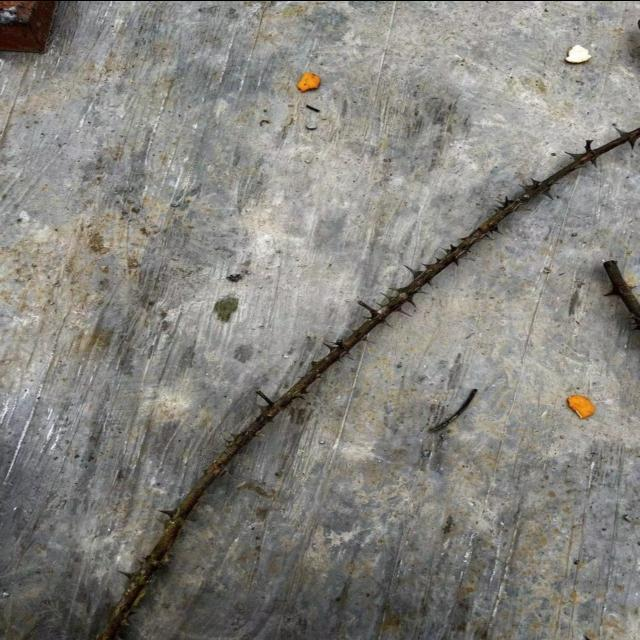branch: (93, 124, 640, 640)
